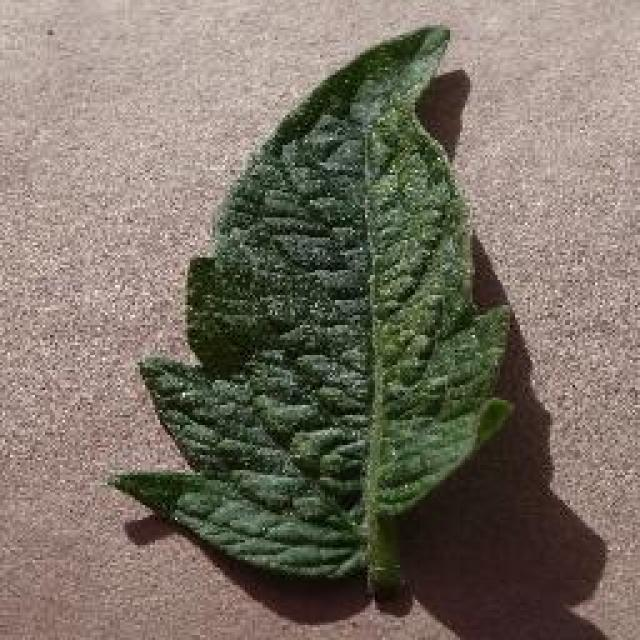Tomato mosaic virus leaf: (109, 22, 511, 580)
